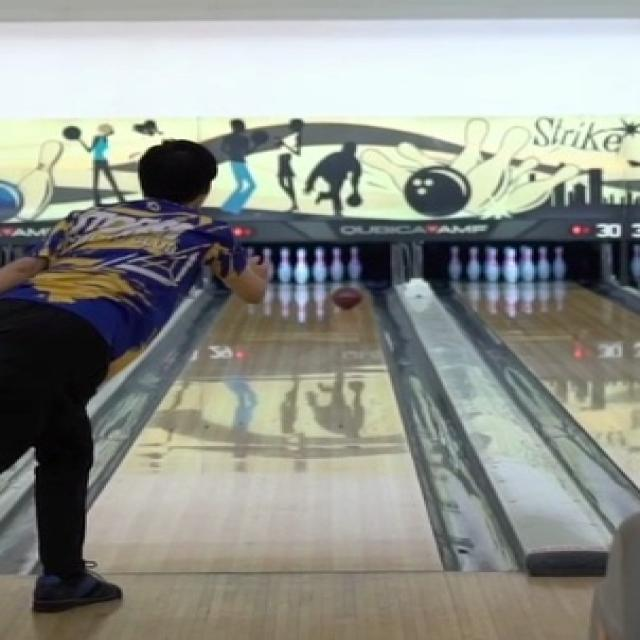alley: (89, 281, 439, 571)
balls: (331, 288, 362, 309)
bottle: (265, 246, 369, 281)
